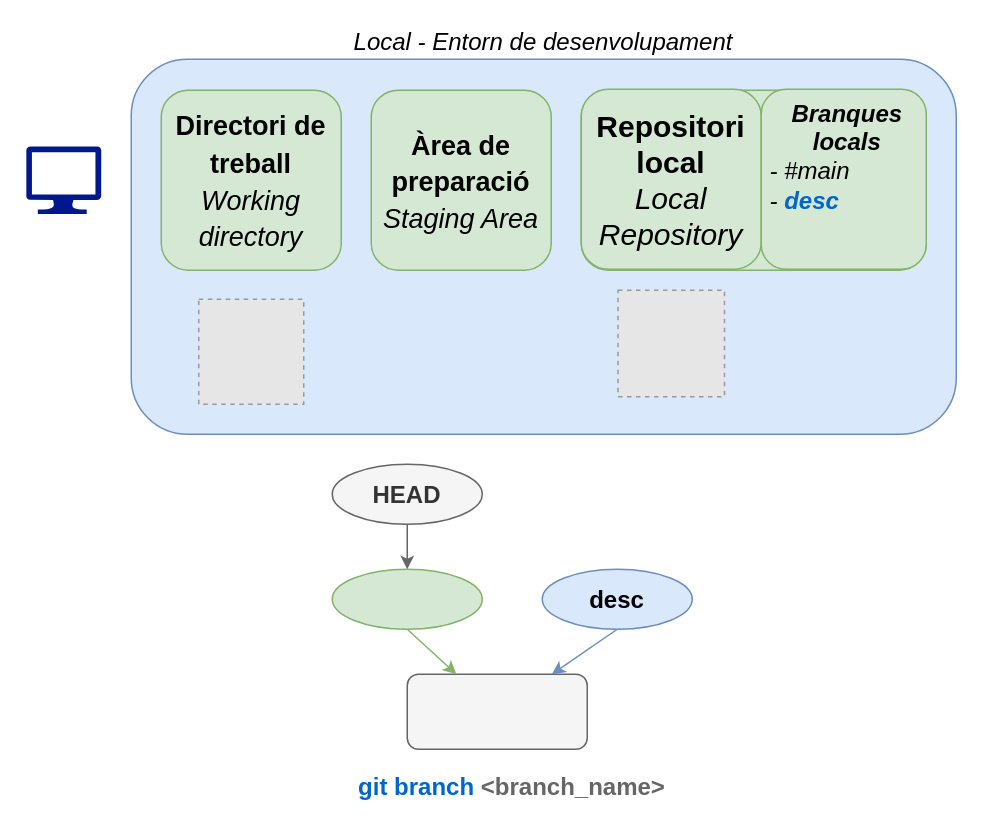
This 983x834 diagram has some shape labels left out. Grey dashed boxes stand in for pictures. The centre of each missing label's shape, as x and y in pixels:
main: point 406,598
Títol 0b1b3b4: point 496,711
